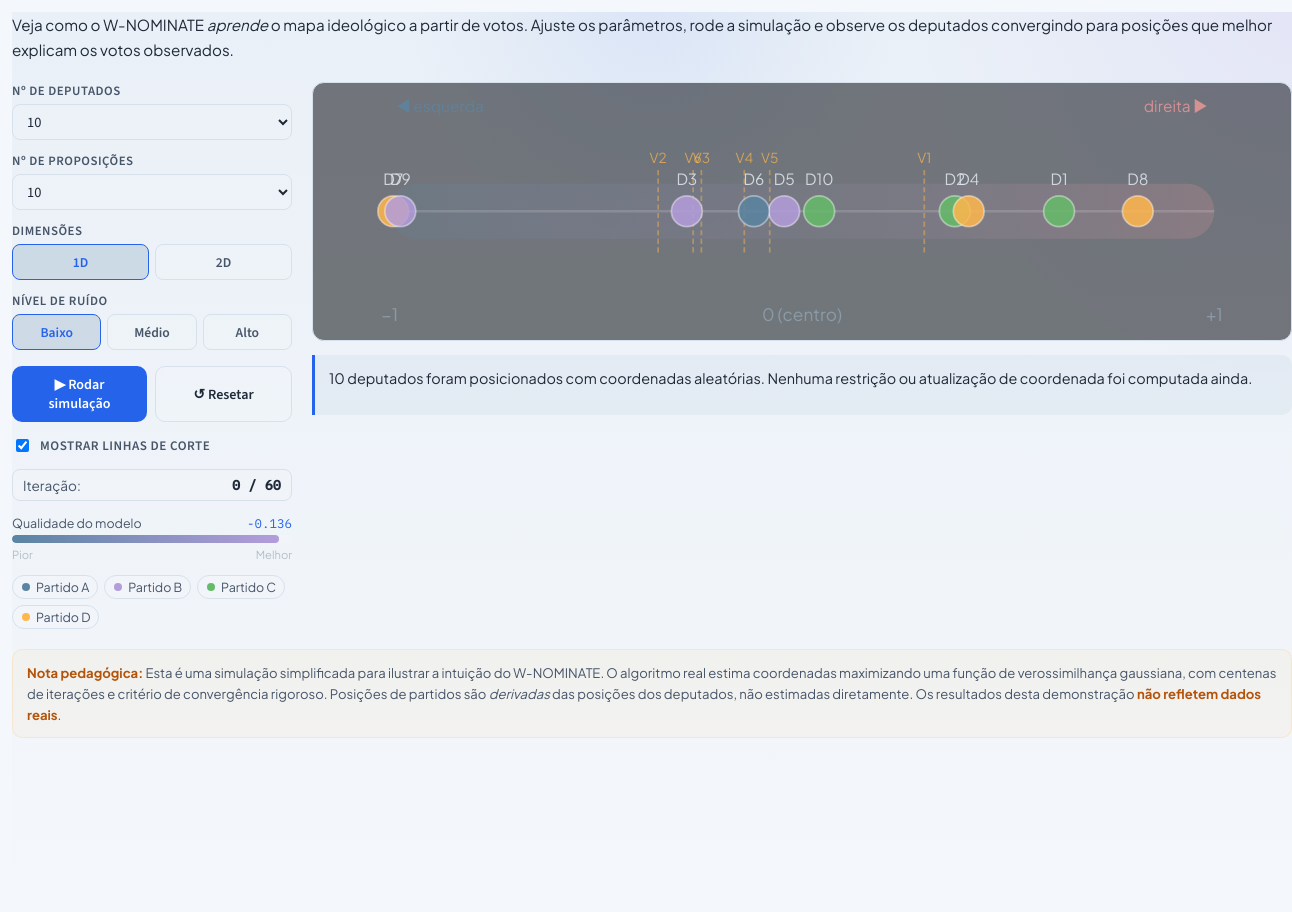
Test case: WNominateDemo › run button becomes disabled while running
Click the button with test id "btn-run" at [80, 394], box x1=12 y1=366 x2=147 y2=422
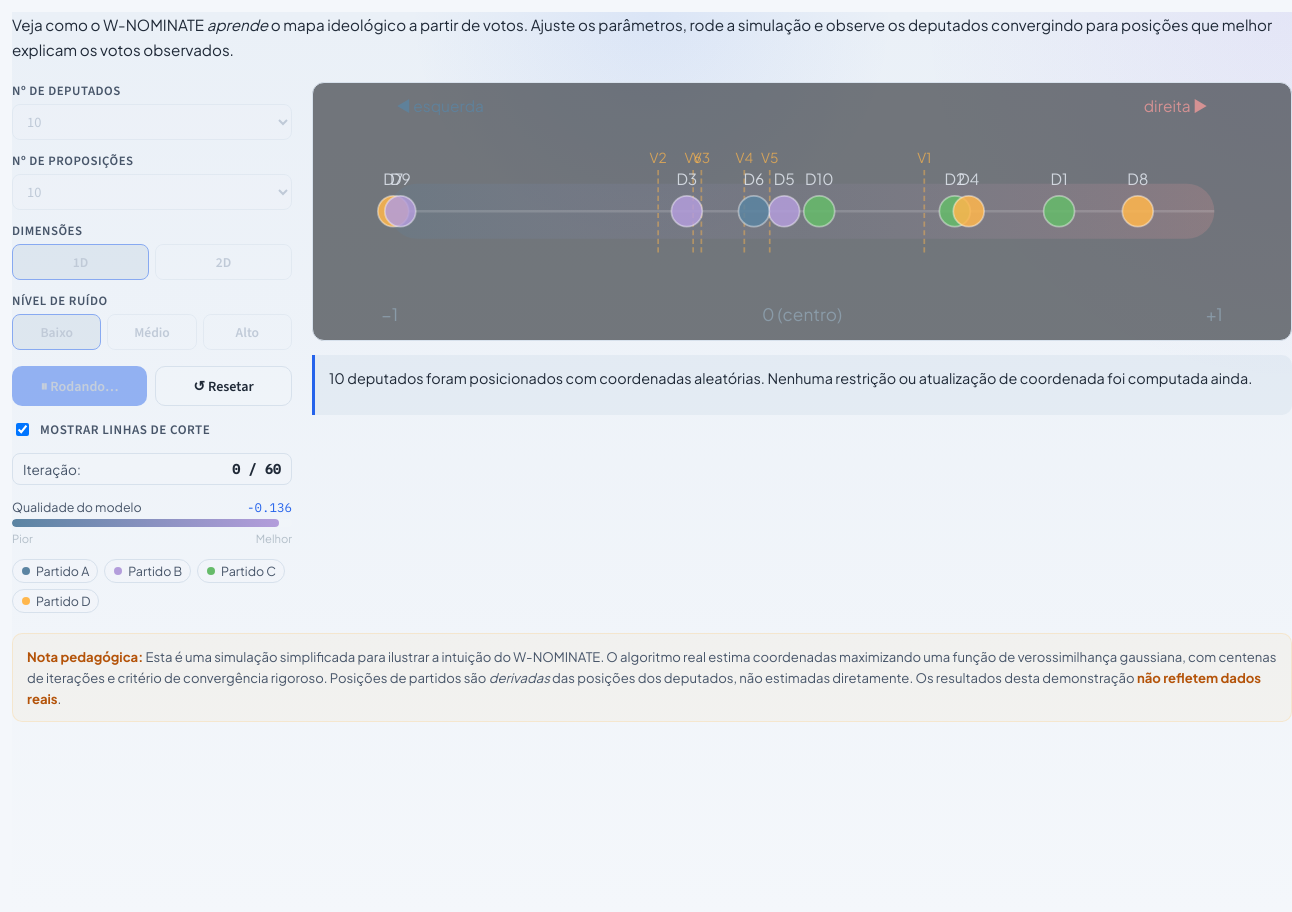
Now the button with test id "btn-run" is disabled, box x1=12 y1=366 x2=147 y2=406
